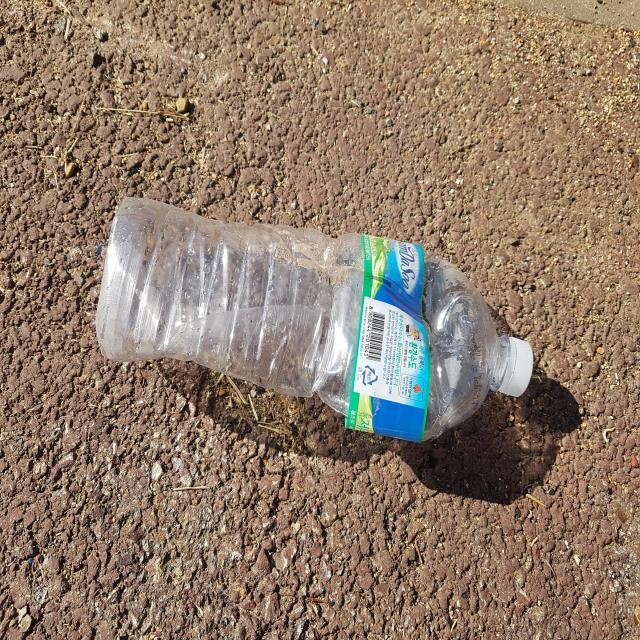plastic: (95, 197, 534, 442)
